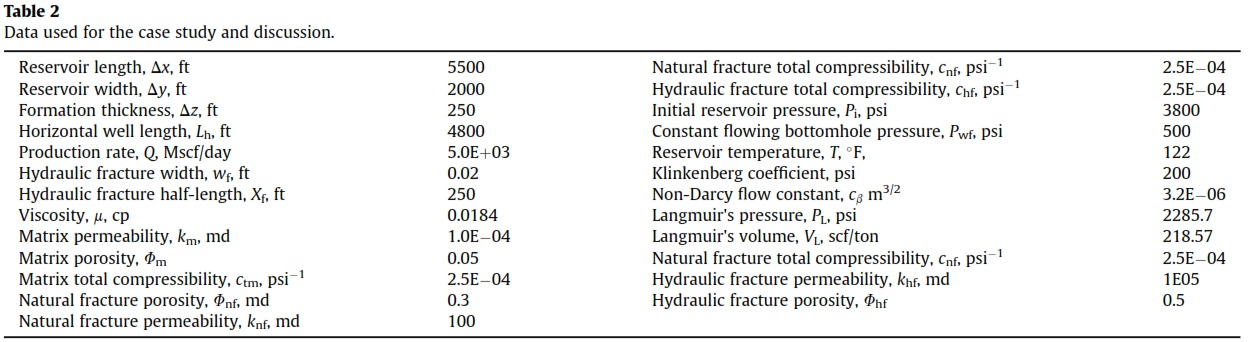fracking table: (3, 47, 1243, 342)
